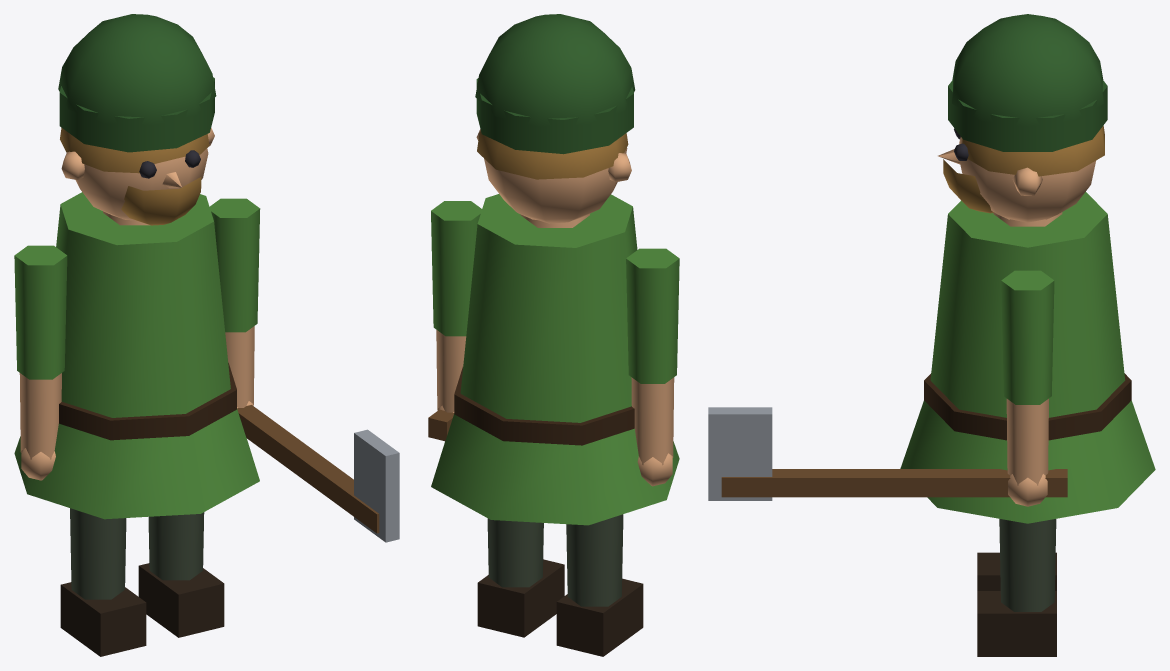
File: w_holzfaeller.glb
3 renders of one model, left to right at view 1: azimuth 30°, elevation 25°; view 2: azimuth 150°, elevation 25°; view 3: azimuth 270°, elevation 25°, orthographic.
Parts seen in each view (by area): view 1: worker, arm_r, arm_l, leg_l, leg_r; view 2: worker, arm_l, leg_l, arm_r, leg_r; view 3: worker, arm_r, leg_r, leg_l.
Boxes of the visible parts, bbox=[...] form: worker: bbox=[14, 14, 259, 519]; arm_r: bbox=[209, 198, 399, 542]; arm_l: bbox=[14, 245, 67, 480]; leg_l: bbox=[60, 508, 146, 656]; leg_r: bbox=[138, 512, 224, 637]; worker: bbox=[431, 14, 679, 525]; arm_l: bbox=[626, 248, 679, 486]; leg_l: bbox=[556, 514, 643, 656]; arm_r: bbox=[428, 201, 481, 441]; leg_r: bbox=[477, 518, 564, 637]; worker: bbox=[900, 14, 1155, 523]; arm_r: bbox=[708, 270, 1067, 506]; leg_r: bbox=[977, 519, 1056, 656]; leg_l: bbox=[977, 552, 1056, 590].
Bounding box in the file's own units: 0.4053 × 1 × 0.672.
